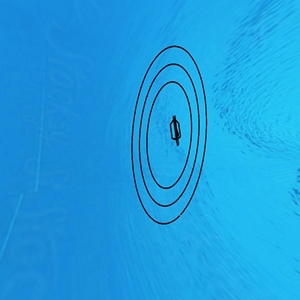circle: (128, 43, 206, 226)
submarine: (167, 116, 183, 150)
